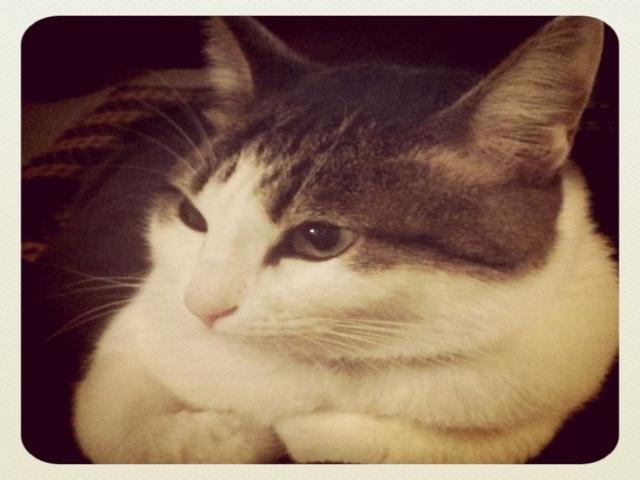Cat: (47, 14, 622, 468)
